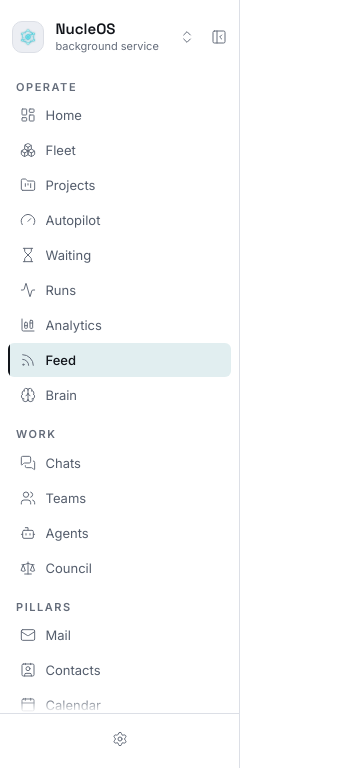
Scenario: Sidebar › project switcher › navigates to the highlighted row on Enter, and closes
Click the button with aria-label "switch project". click: (106,37)
box: [8,12,203,61]
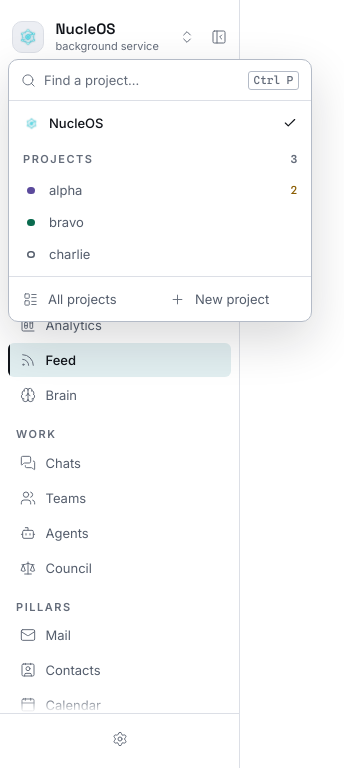
Type "bra" into the dropdown labelled "Find a project". click: (142,80)
box: [44,70,240,90]
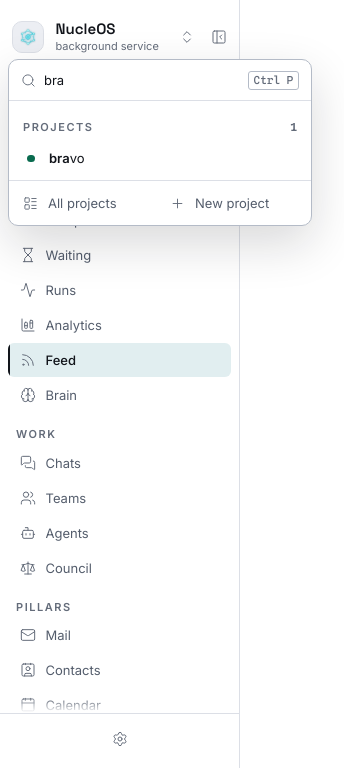
Press Enter in the dropdown named "Find a project", box [44,70,240,90]
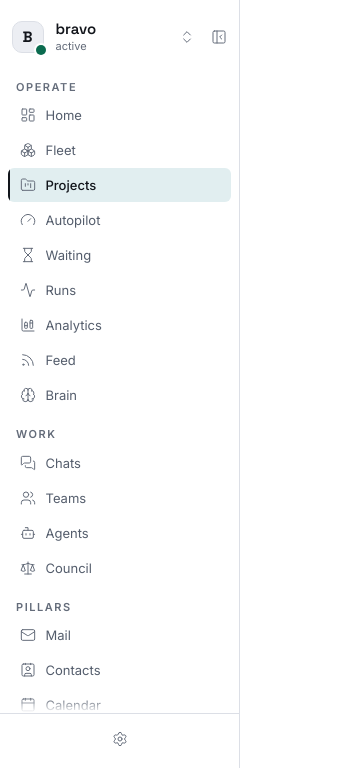
Result: the dropdown is gone
